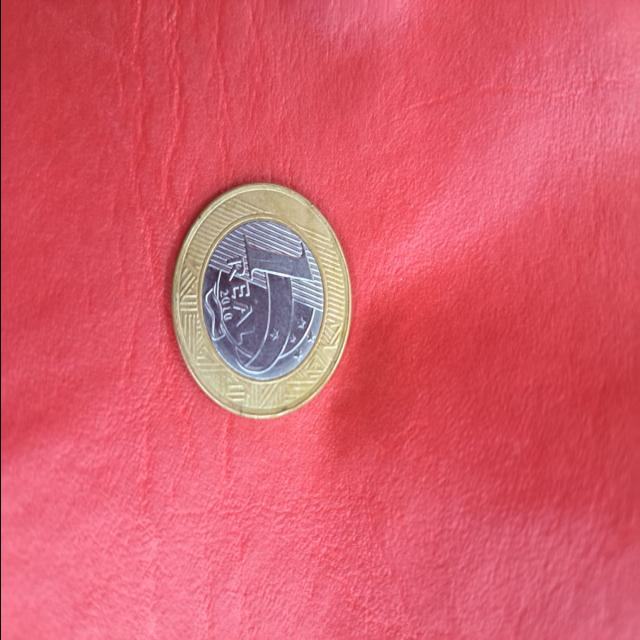1 real: (158, 165, 358, 438)
